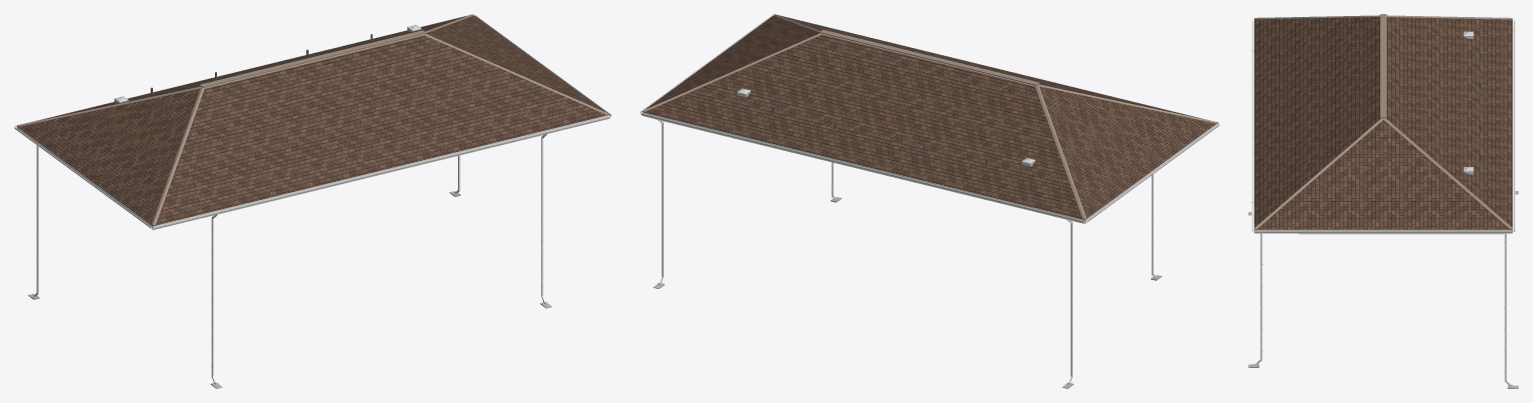
Rendered from roof.glb.
3 views of the same model, side by side, from view 1: azimuth 30°, elevation 25°; view 2: azimuth 150°, elevation 25°; view 3: azimuth 270°, elevation 25° (orthographic). The views are drawn at different scales.
Visible parts, largest first — view 1: roof_shingles, roof_gutter, roof_shingle_c, roof_trim; view 2: roof_shingles, roof_gutter, roof_shingle_c, roof_trim; view 3: roof_shingles, roof_gutter, roof_shingle_c, roof_trim.
Part boxes in pixels (x1,y1,x2,y2): roof_shingles: [17, 15, 608, 225]; roof_gutter: [14, 14, 611, 384]; roof_shingle_c: [17, 14, 608, 224]; roof_trim: [17, 115, 608, 230]; roof_shingles: [642, 15, 1217, 219]; roof_gutter: [640, 14, 1219, 384]; roof_shingle_c: [643, 14, 1217, 218]; roof_trim: [642, 112, 1217, 223]; roof_shingles: [1254, 17, 1512, 229]; roof_gutter: [1251, 19, 1515, 386]; roof_shingle_c: [1254, 14, 1512, 229]; roof_trim: [1254, 229, 1512, 234].
Bounding box in the file's own units: 25.16 × 12.38 × 13.5.
9 materials, 3 textured.
